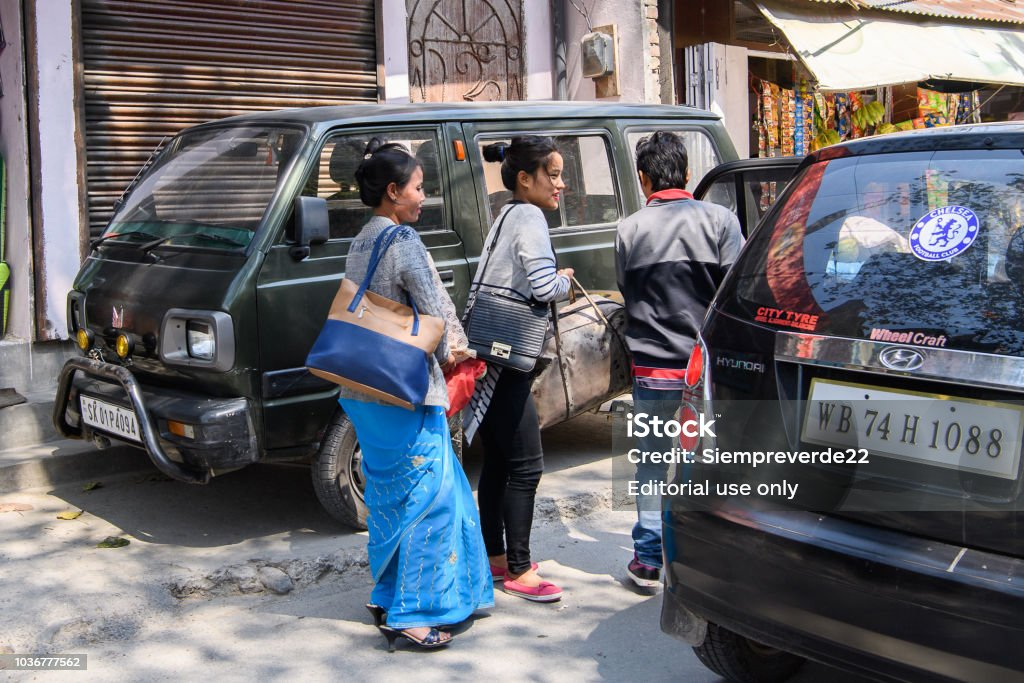person: (358, 147, 429, 228), (499, 135, 568, 217), (632, 139, 695, 205)
